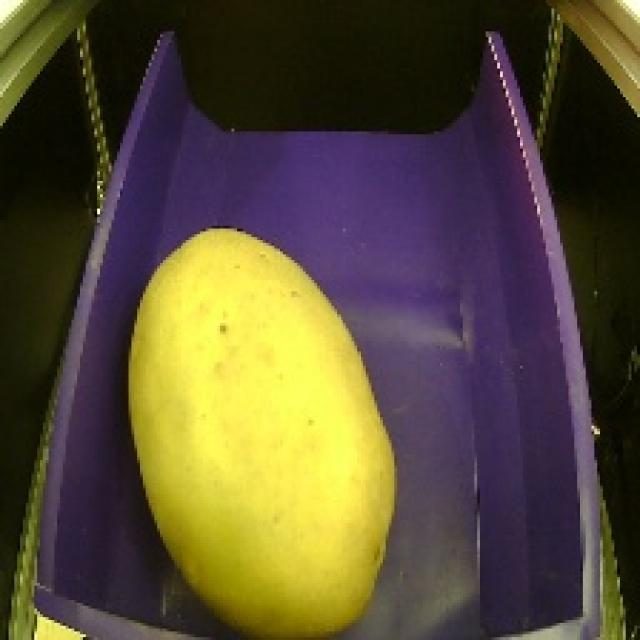full_potato: (114, 211, 409, 640)
